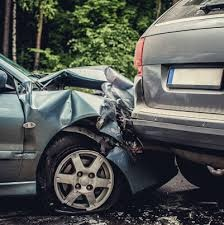Smashed: (20, 65, 136, 208)
